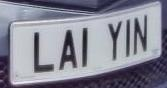1: (78, 22, 98, 74), (121, 14, 135, 64)
A: (57, 23, 81, 76)
L: (29, 26, 58, 78)
N: (133, 12, 150, 59)
Y: (106, 17, 127, 66)
